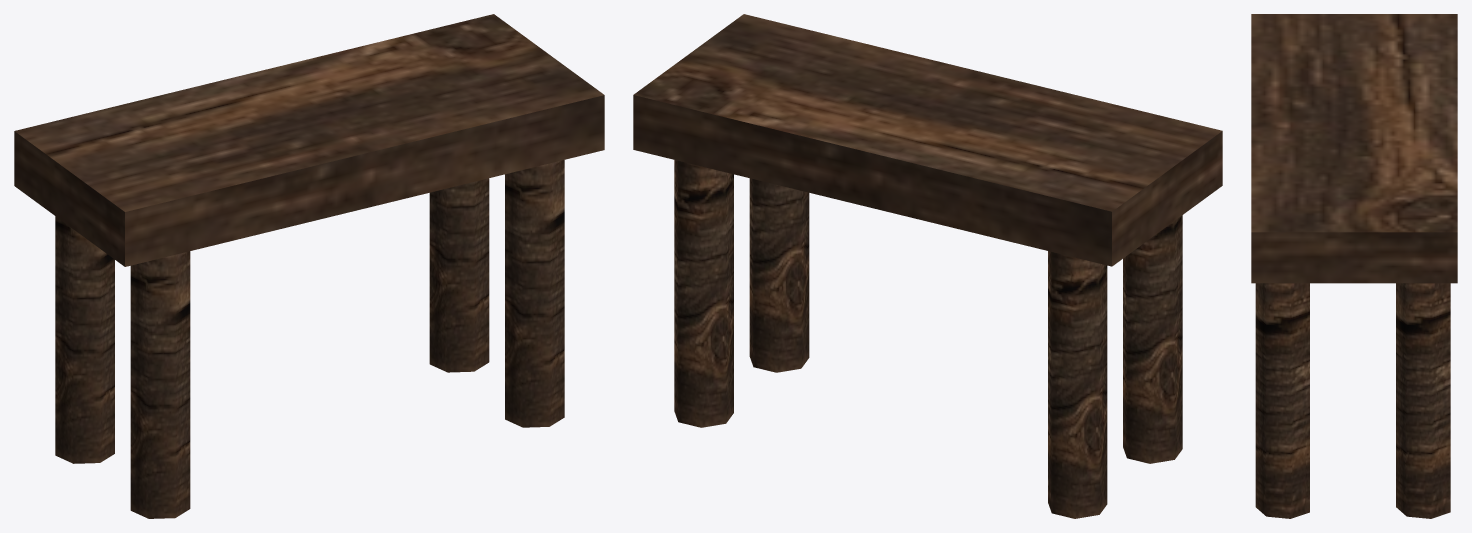
The model's file is bench.glb.
The picture shows the model from 3 angles, left to right: view 1: azimuth 30°, elevation 25°; view 2: azimuth 150°, elevation 25°; view 3: azimuth 270°, elevation 25°; orthographic projection. The views are drawn at different scales.
Parts seen in each view (by area): view 1: part_0; view 2: part_0; view 3: part_0.
Boxes of the visible parts, bbox=[...] form: part_0: bbox=[14, 14, 604, 518]; part_0: bbox=[633, 14, 1222, 518]; part_0: bbox=[1251, 14, 1457, 518].
Bounding box in the file's own units: 0.6849 × 0.4375 × 0.274.
Materials: 1 (1 with a texture image).
